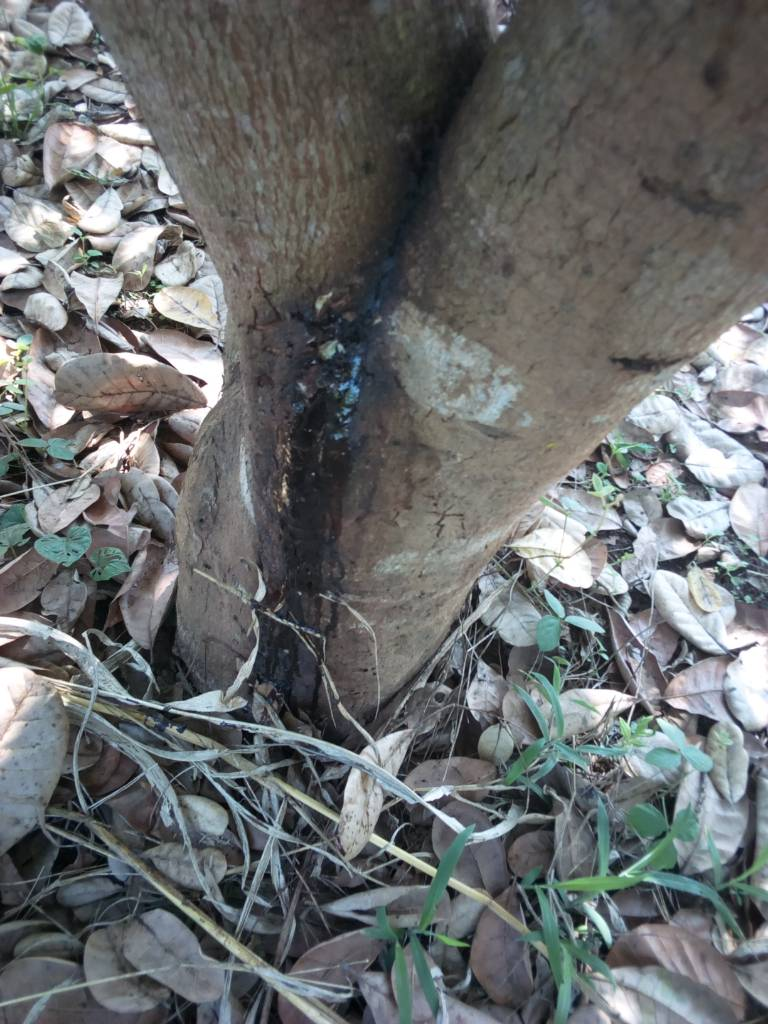Gommose: (247, 278, 394, 703)
